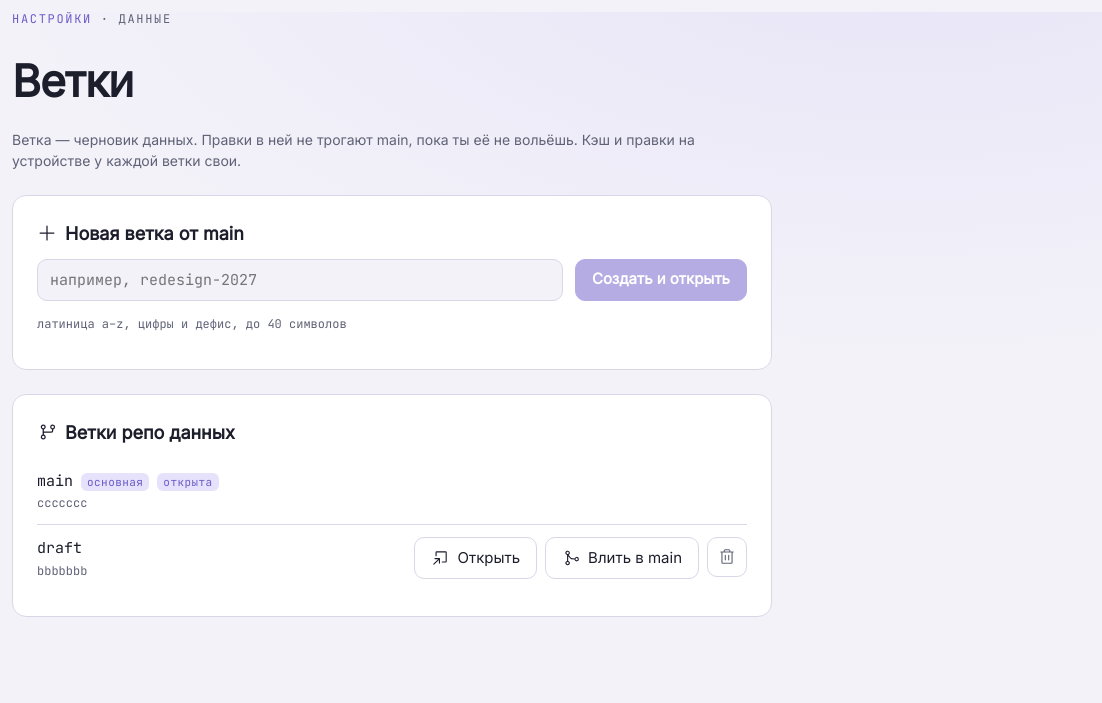
Test: экран «Ветки»: «Влить в main» › в ветке неотправленные правки (settleBranch — 423): текст отказа, на сервер «Влить» не уходит
Click the button "Влить в main" at [622, 558], box [545,537,699,579]
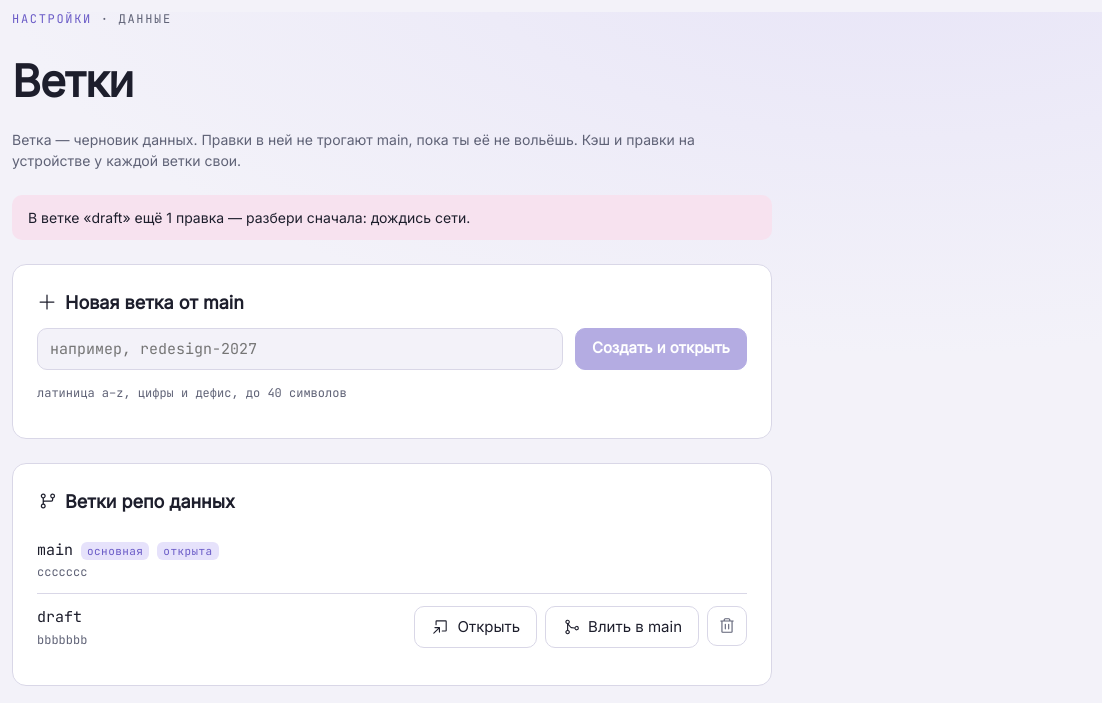
Now the message "В ветке «draft» ещё 1 правка — разбери сначала: дождись сети." is shown, box [12,195,772,240]
